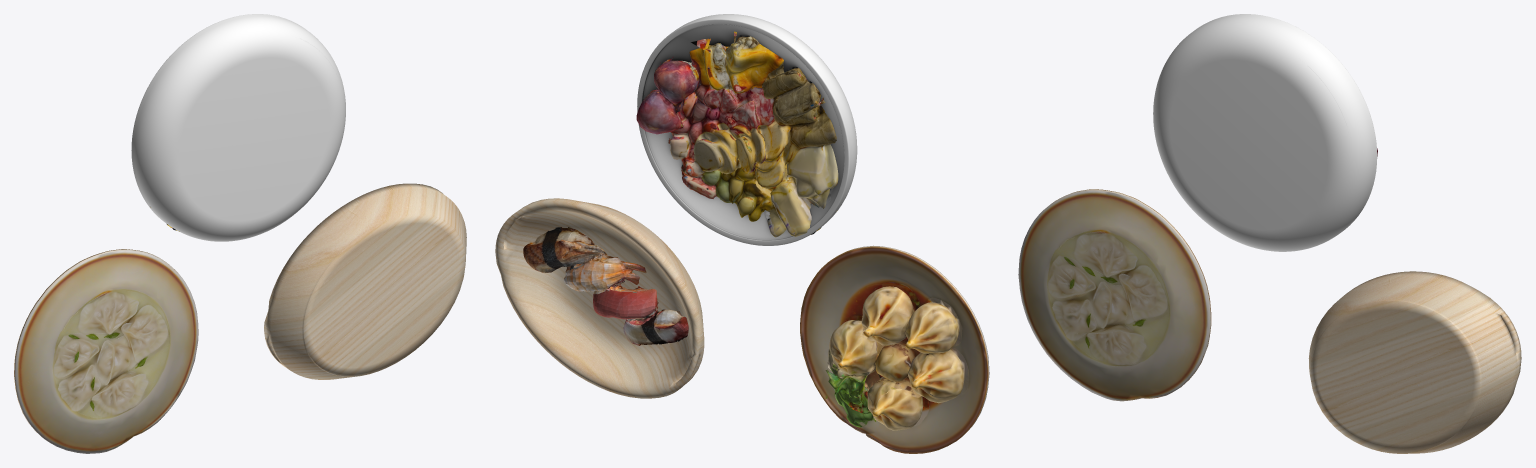
File: doggy.glb
The picture shows the model from 3 angles, left to right: view 1: azimuth 30°, elevation 25°; view 2: azimuth 150°, elevation 25°; view 3: azimuth 330°, elevation 25°; orthographic projection. The views are drawn at different scales.
Parts seen in each view (by area): view 1: BOWL.002, Retopo_Object_2, temp; view 2: temp, Retopo_MEZE_PLATE_300K.001, Retopo_Object_2, BOWL.002, Retopo_sushiboat1_200k_4kt.002; view 3: BOWL.002, temp, Retopo_Object_2.
Part boxes in pixels (x1,y1,x2,y2): BOWL.002: (131, 14, 345, 241); Retopo_Object_2: (264, 183, 466, 379); temp: (14, 249, 198, 453); temp: (800, 245, 989, 453); Retopo_MEZE_PLATE_300K.001: (636, 31, 838, 237); Retopo_Object_2: (495, 198, 704, 398); BOWL.002: (637, 14, 857, 245); Retopo_sushiboat1_200k_4kt.002: (523, 227, 688, 345); BOWL.002: (1153, 14, 1377, 251); temp: (1018, 189, 1211, 401); Retopo_Object_2: (1308, 271, 1521, 453).
Size of the model in its own units: 0.3311 by 0.2682 by 0.0453.
Materials: 5 (5 with a texture image).
